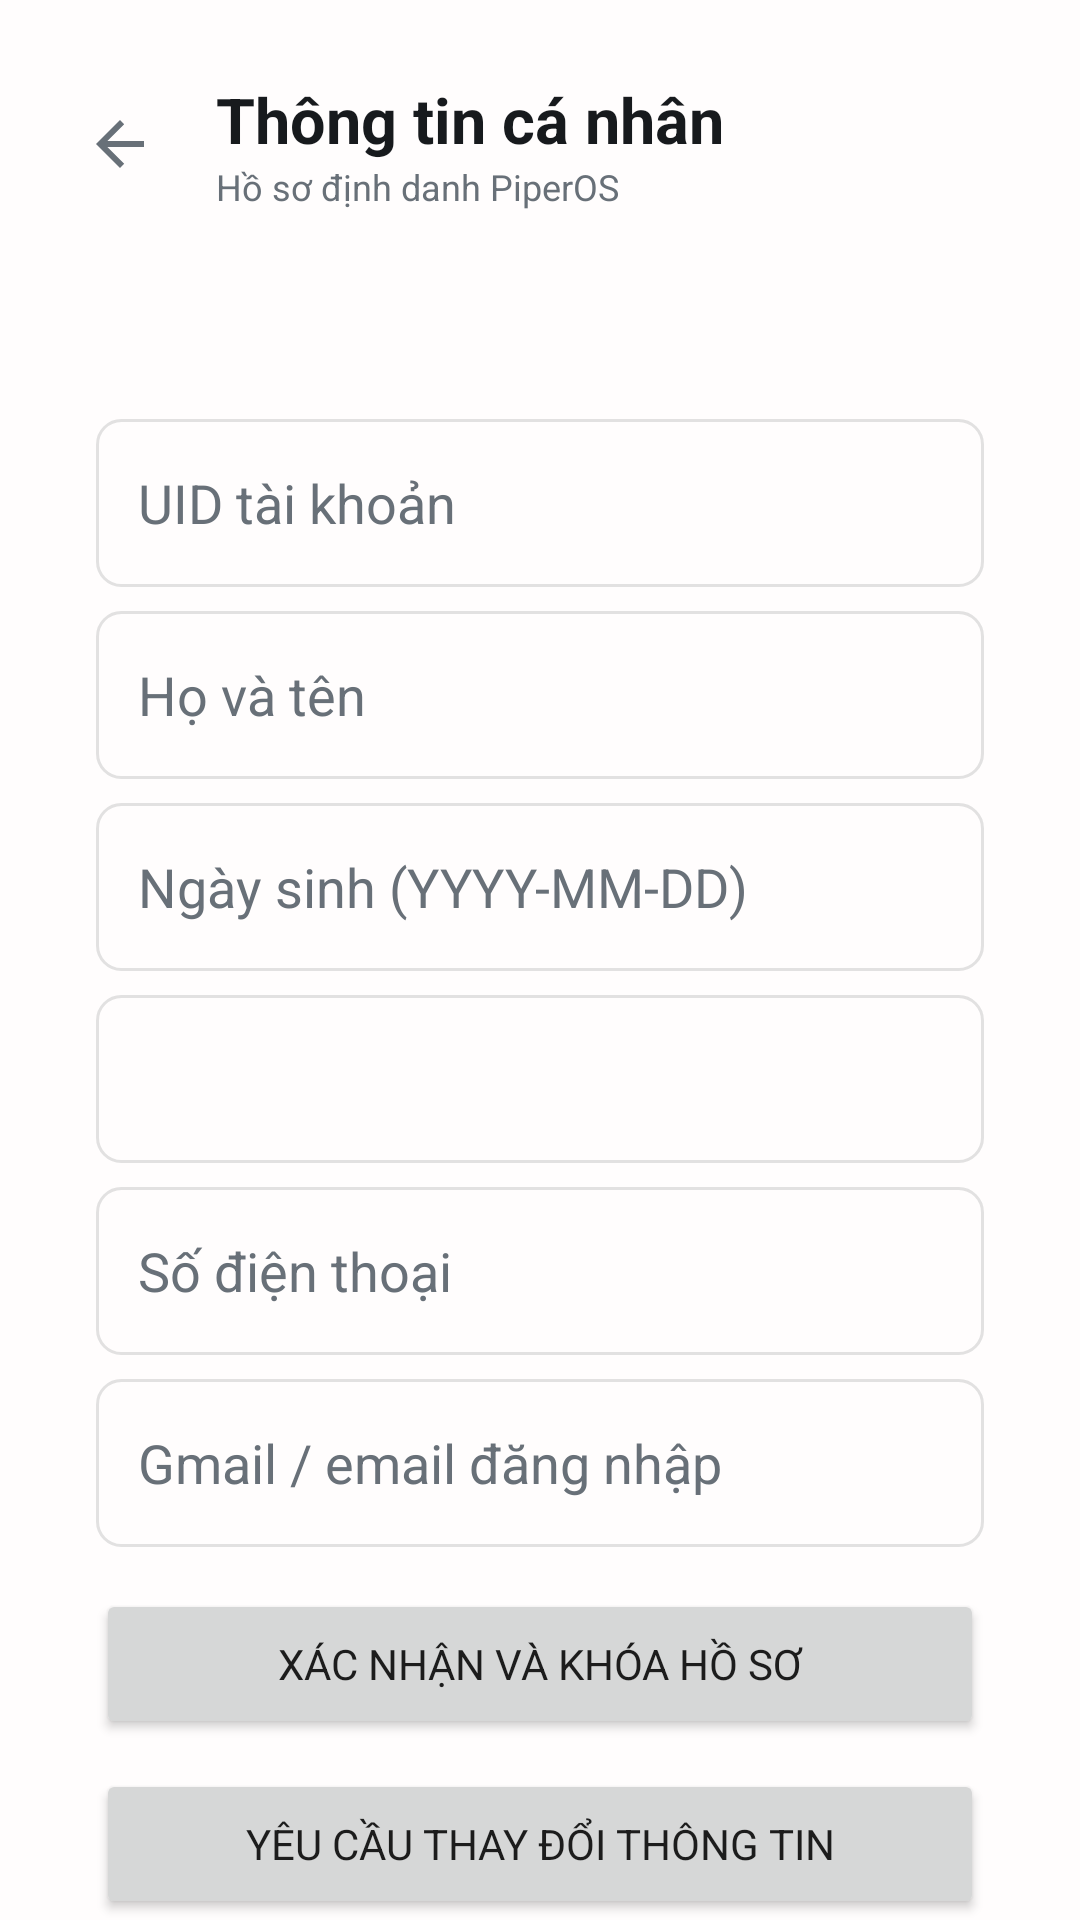

Icons on this 1080w x 1920h Android screen, each with its box as (x1, y1, x2, y2):
Quay lại: (96, 120, 144, 168)
